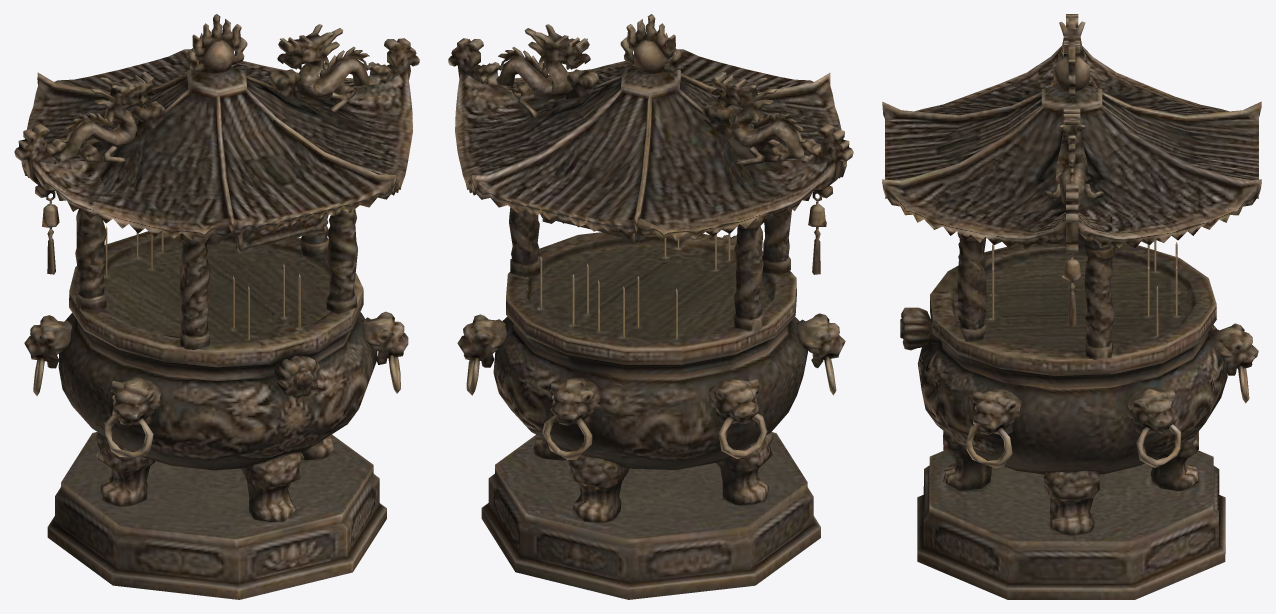
File: tiangong-lite.glb
3 views of the same model, side by side, from view 1: azimuth 30°, elevation 25°; view 2: azimuth 150°, elevation 25°; view 3: azimuth 270°, elevation 25° (orthographic). The views are drawn at different scales.
Parts seen in each view (by area): view 1: tripo_node_2442dc6a-4c15-4501-8ce0-dd955580a938; view 2: tripo_node_2442dc6a-4c15-4501-8ce0-dd955580a938; view 3: tripo_node_2442dc6a-4c15-4501-8ce0-dd955580a938.
Boxes of the visible parts, box(x1,y1,x2,y2) form: tripo_node_2442dc6a-4c15-4501-8ce0-dd955580a938: box(14, 14, 419, 599); tripo_node_2442dc6a-4c15-4501-8ce0-dd955580a938: box(448, 14, 853, 599); tripo_node_2442dc6a-4c15-4501-8ce0-dd955580a938: box(882, 14, 1261, 599).
Size of the model in its own units: 0.814 by 0.999 by 0.688.
1 material, 1 textured.
